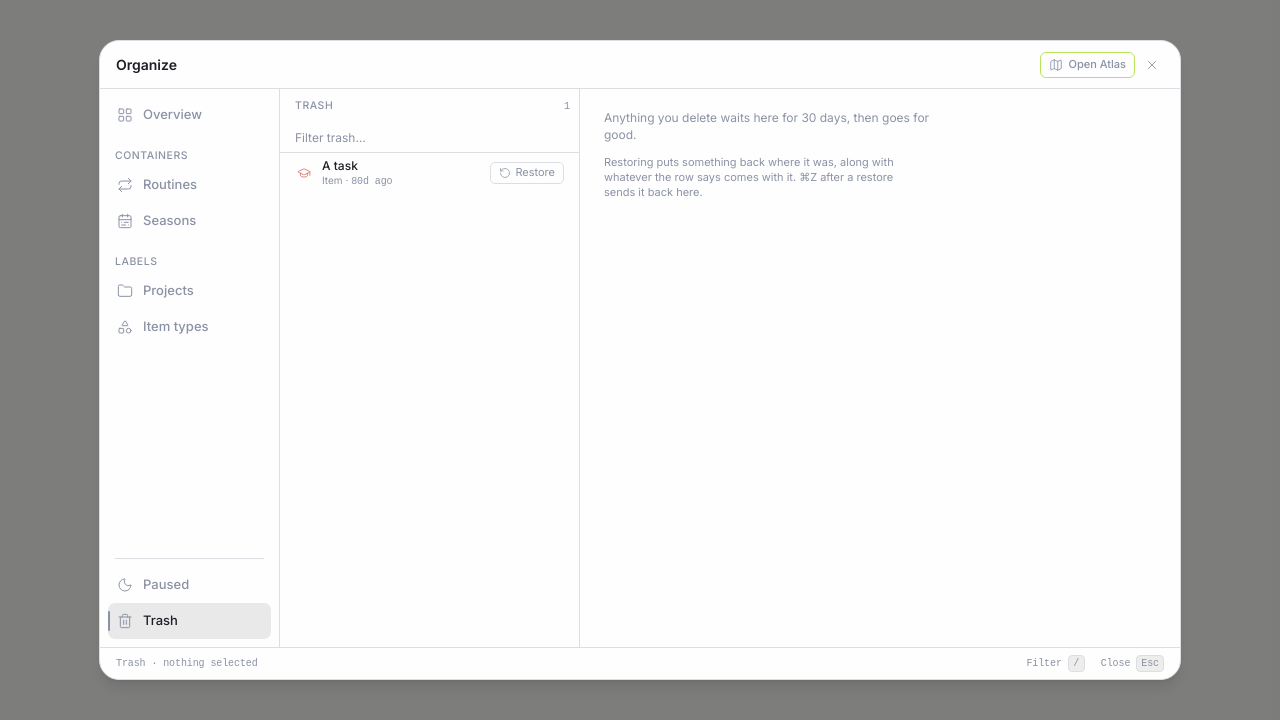
Test: the Trash section › hands the whole entry to the store and drops the row
This screenshot has width=1280, height=720.
Click the button with test id "trash-restore".
click(527, 172)  # box [490,162,564,184]
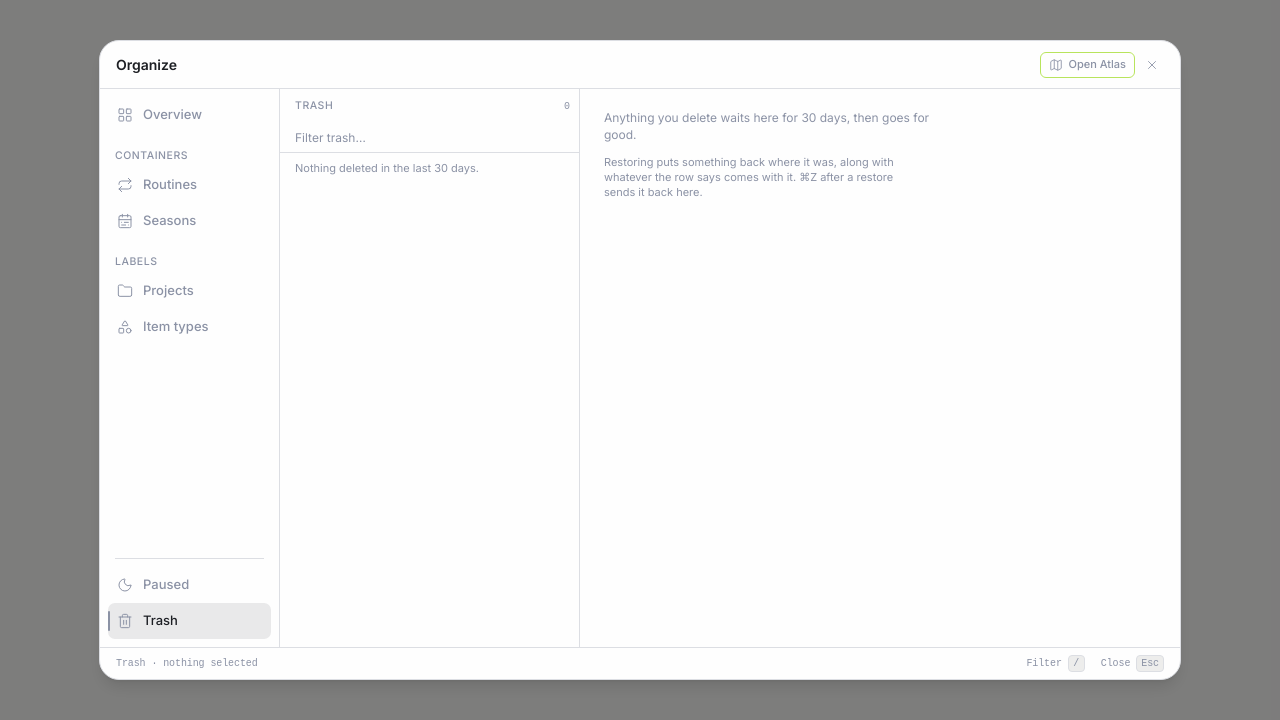
Result: the element with test id "trash-row" is gone
